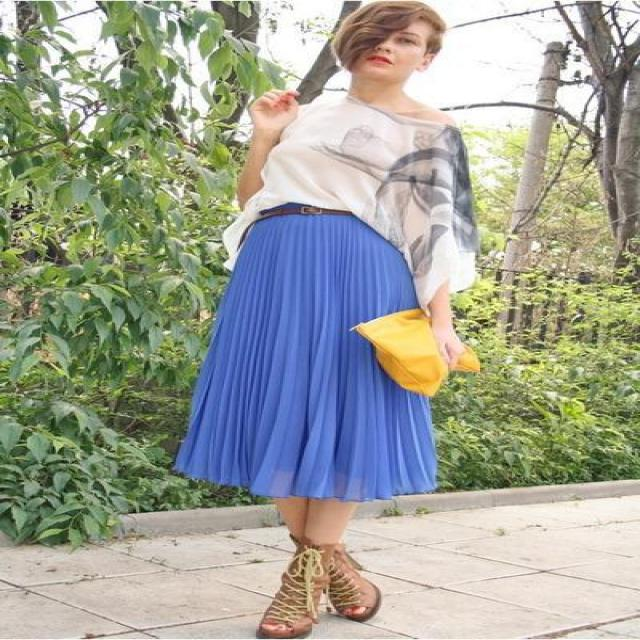bag: (365, 303, 448, 395)
shirt: (206, 98, 484, 292)
shoe: (256, 544, 381, 638)
skirt: (173, 209, 438, 498)
